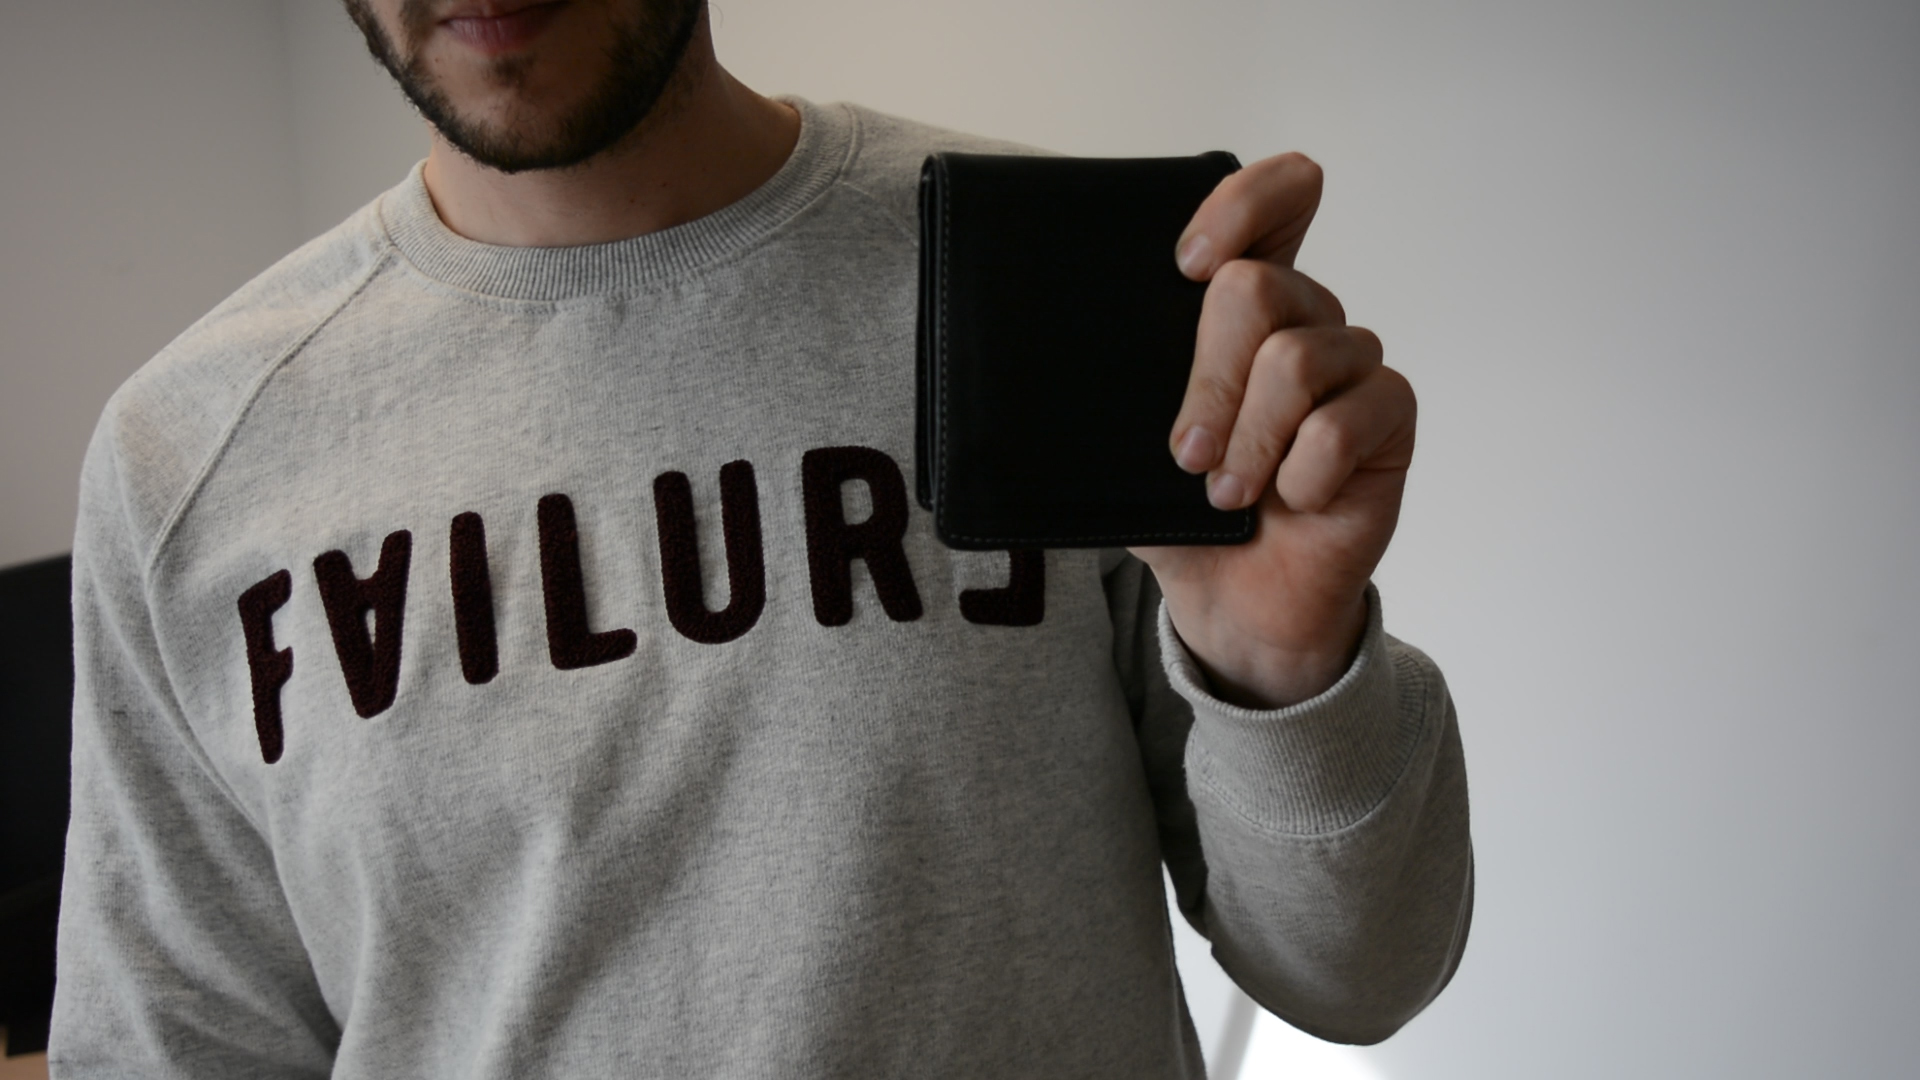monedero: (914, 146, 1261, 555)
